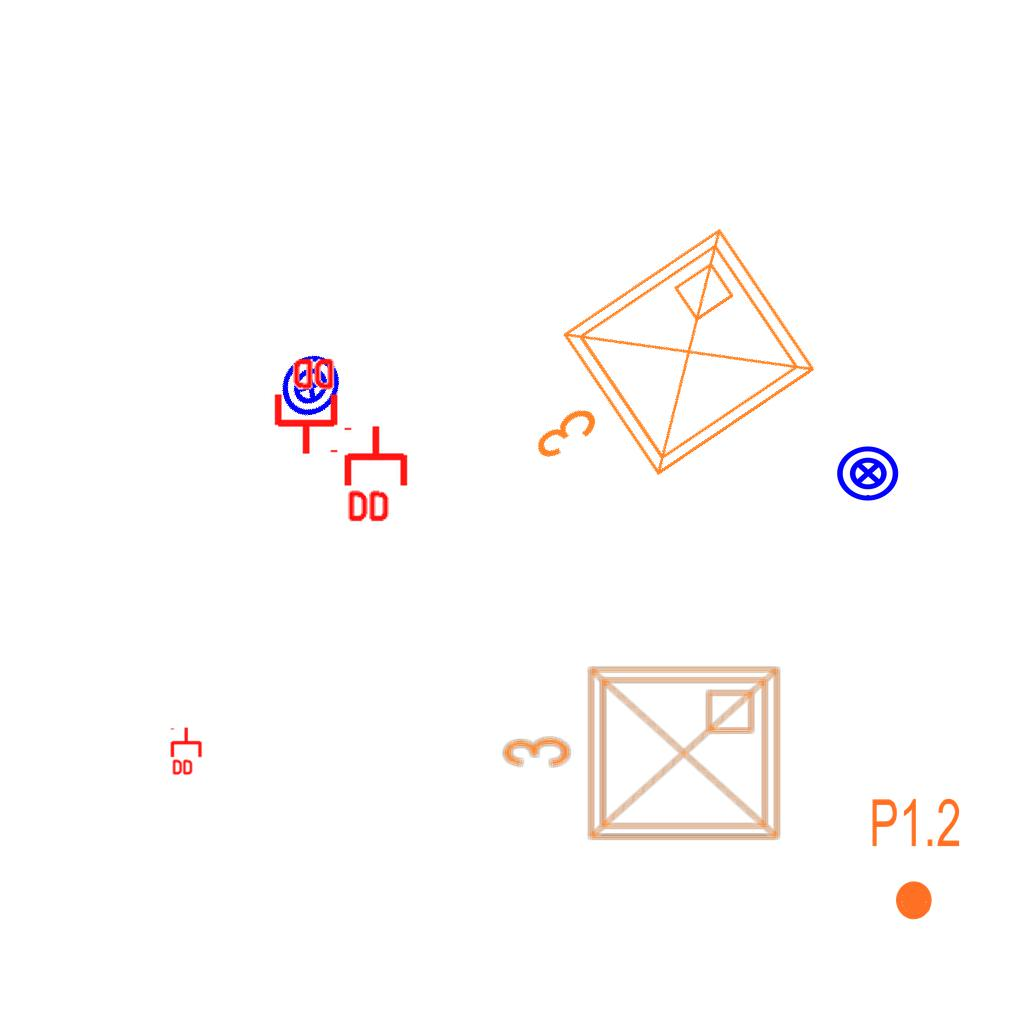Datenanschluss_zweifach: (343, 423, 412, 526), (270, 354, 339, 457), (170, 726, 204, 777)
Downlight_LED_Einbauleuchten_Flur: (869, 795, 962, 923)
Einbaudownlights_LED_Konferenzraeume: (474, 207, 840, 549), (493, 653, 793, 861)
Taster_beleuchtet: (265, 340, 357, 432), (835, 440, 901, 506)
